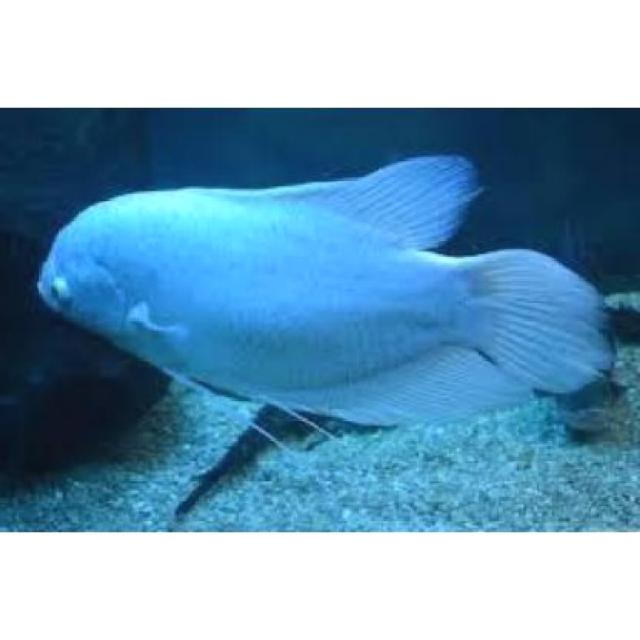gurame: (32, 169, 598, 425)
